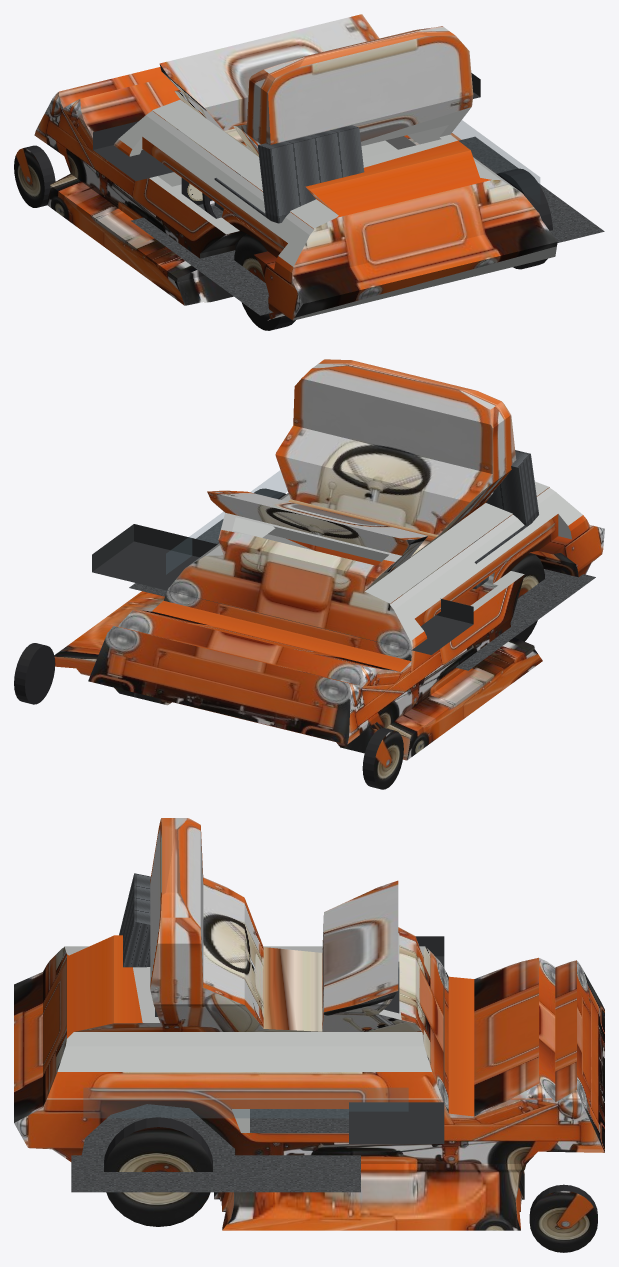
The model's file is parks_mower.glb.
The picture shows the model from 3 angles, top to bottom: view 1: azimuth 30°, elevation 25°; view 2: azimuth 150°, elevation 25°; view 3: azimuth 270°, elevation 25°; orthographic projection. The views are drawn at different scales.
Visible parts, largest first — view 1: parks_mower, parks_mower_cabin, wheel_FL, wheel_BL, wheel_BR; view 2: parks_mower, parks_mower_cabin, wheel_FL, wheel_FR, wheel_BL; view 3: parks_mower, parks_mower_cabin, wheel_BR, wheel_FR.
Boxes of the visible parts, x1=… form: parks_mower: x1=34, y1=14, x2=557, y2=320; parks_mower_cabin: x1=93, y1=73, x2=604, y2=315; wheel_FL: x1=14, y1=145, x2=55, y2=207; wheel_BL: x1=234, y1=234, x2=295, y2=330; wheel_BR: x1=497, y1=168, x2=552, y2=269; parks_mower: x1=54, y1=359, x2=604, y2=760; parks_mower_cabin: x1=92, y1=450, x2=595, y2=670; wheel_FL: x1=362, y1=728, x2=403, y2=789; wheel_FR: x1=14, y1=643, x2=55, y2=704; wheel_BL: x1=511, y1=553, x2=544, y2=641; parks_mower: x1=14, y1=818, x2=604, y2=1230; parks_mower_cabin: x1=71, y1=873, x2=444, y2=1192; wheel_BR: x1=104, y1=1117, x2=212, y2=1226; wheel_FR: x1=529, y1=1184, x2=597, y2=1252.
Bounding box in the file's own units: 1.98 × 1.3 × 2.48.
Materials: 11 (4 with a texture image).
